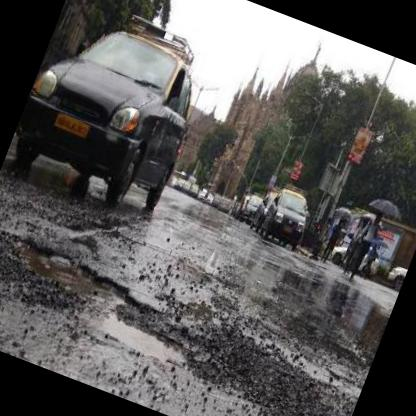pothole: (8, 235, 143, 318), (92, 300, 200, 373)
